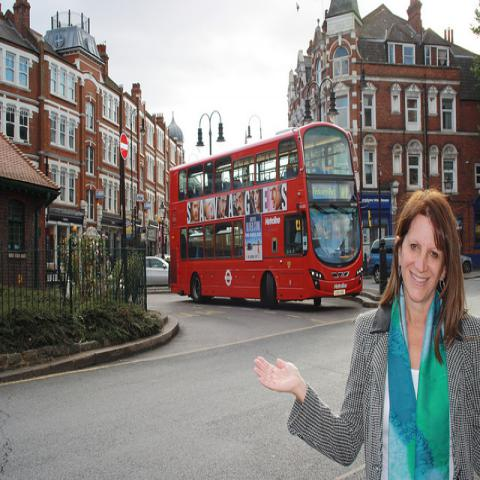bus: (170, 122, 363, 304)
car: (369, 238, 396, 285), (146, 256, 168, 287), (459, 254, 473, 274)
